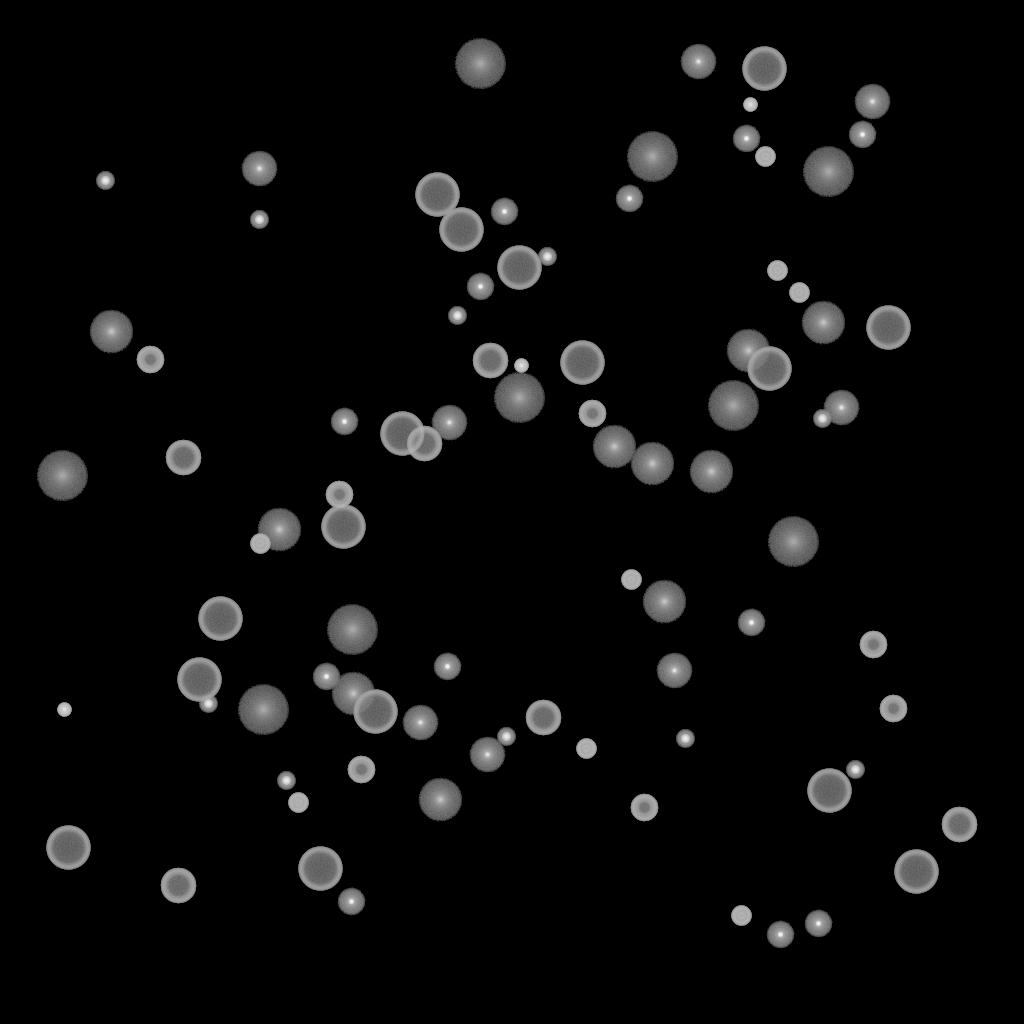depth:-10: (804, 910, 832, 938), (737, 609, 765, 637), (312, 663, 340, 691), (466, 273, 494, 301), (766, 921, 794, 949), (337, 888, 365, 916), (490, 198, 518, 226), (848, 121, 876, 149), (433, 653, 461, 681), (732, 125, 760, 153), (615, 185, 643, 213), (330, 408, 358, 436)
depth:-20: (250, 211, 268, 229), (846, 761, 864, 779), (813, 410, 831, 428), (96, 172, 114, 190), (199, 695, 217, 713), (538, 248, 556, 266), (497, 728, 515, 746), (448, 307, 466, 325), (277, 772, 295, 790), (676, 730, 694, 748)
depth:-30: (57, 703, 71, 717), (743, 98, 757, 112), (514, 359, 528, 373)
depth:-40: (621, 570, 641, 590), (731, 906, 751, 926), (250, 534, 270, 554), (767, 261, 787, 281), (288, 793, 308, 813), (576, 739, 596, 759), (789, 283, 809, 303), (755, 147, 775, 167)
depth:-50: (347, 756, 375, 784), (136, 346, 164, 374), (578, 400, 606, 428), (879, 695, 907, 723), (325, 481, 353, 509), (859, 631, 887, 659), (630, 794, 658, 822)
depth:-60: (406, 426, 442, 462), (472, 343, 508, 379), (525, 700, 561, 736), (160, 868, 196, 904), (165, 440, 201, 476), (941, 807, 977, 843)
depth:-70: (747, 347, 791, 391), (439, 208, 483, 252), (353, 690, 397, 734), (198, 597, 242, 641), (497, 246, 541, 290), (380, 412, 424, 456), (177, 658, 221, 702), (560, 341, 604, 385), (866, 306, 910, 350), (742, 47, 786, 91), (298, 847, 342, 891), (46, 826, 90, 870), (321, 505, 365, 549), (415, 173, 459, 217), (894, 850, 938, 894), (807, 769, 851, 813)
depth:0: (469, 737, 505, 773), (402, 705, 438, 741), (241, 151, 277, 187), (823, 390, 859, 426), (431, 405, 467, 441), (854, 84, 890, 120), (656, 653, 692, 689), (680, 44, 716, 80)
depth:10: (726, 329, 770, 373), (630, 442, 674, 486), (689, 450, 733, 494), (331, 672, 375, 716), (642, 580, 686, 624), (257, 508, 301, 552), (89, 310, 133, 354), (418, 778, 462, 822), (592, 425, 636, 469), (801, 301, 845, 345)
depth:20: (454, 39, 506, 89), (326, 605, 378, 655), (626, 132, 678, 182), (767, 517, 819, 567), (237, 685, 289, 735), (802, 147, 854, 197), (36, 451, 88, 501), (707, 381, 759, 431), (493, 373, 545, 423)
